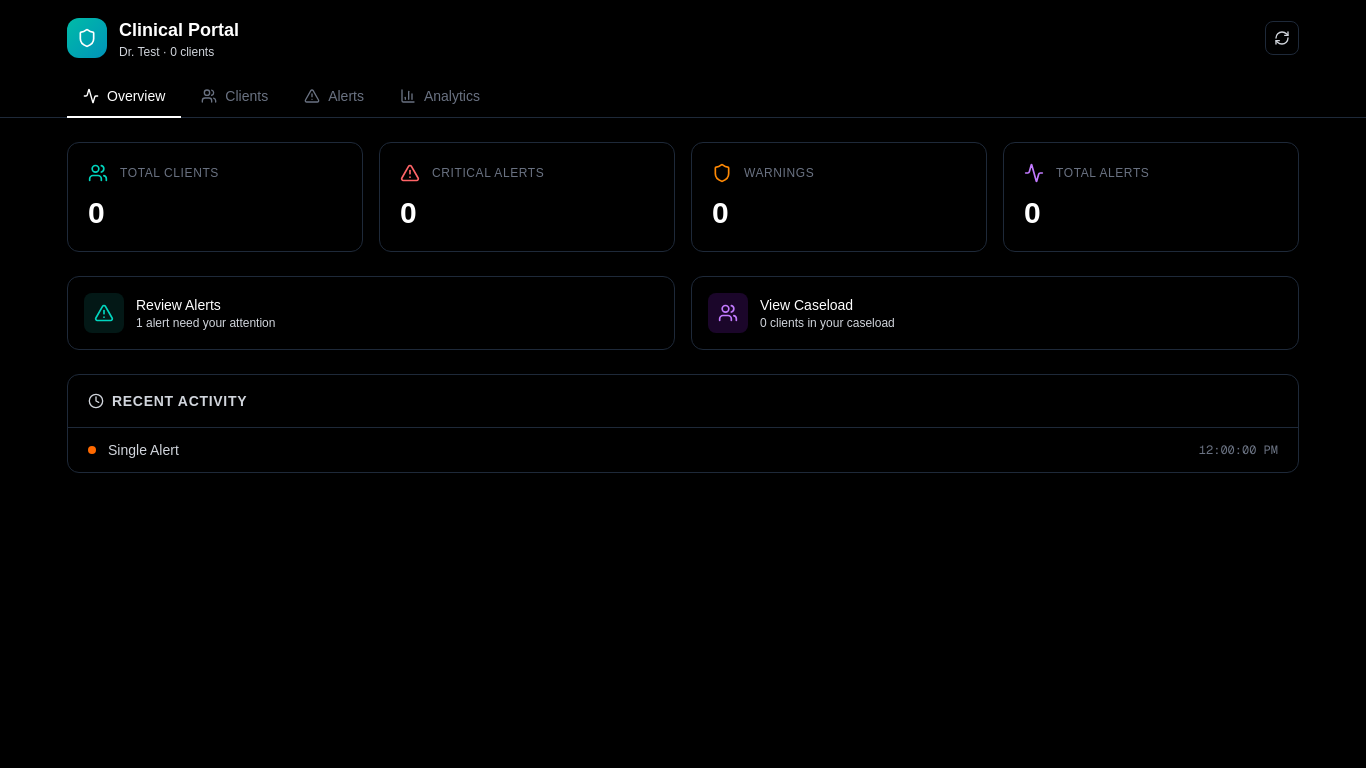
Test: ClinicalPortal › handles branch coverage edge cases (singular alerts, empty state, zero summary)
Expected: the text "Total Clients" is shown, [120,165,219,181]
Expected: the text "1 alert need your attention" is shown, [136,315,276,331]
# Check "No clients assigned"
Step 1. Click the button "Clients" → click(235, 97), box [185,76,284,118]
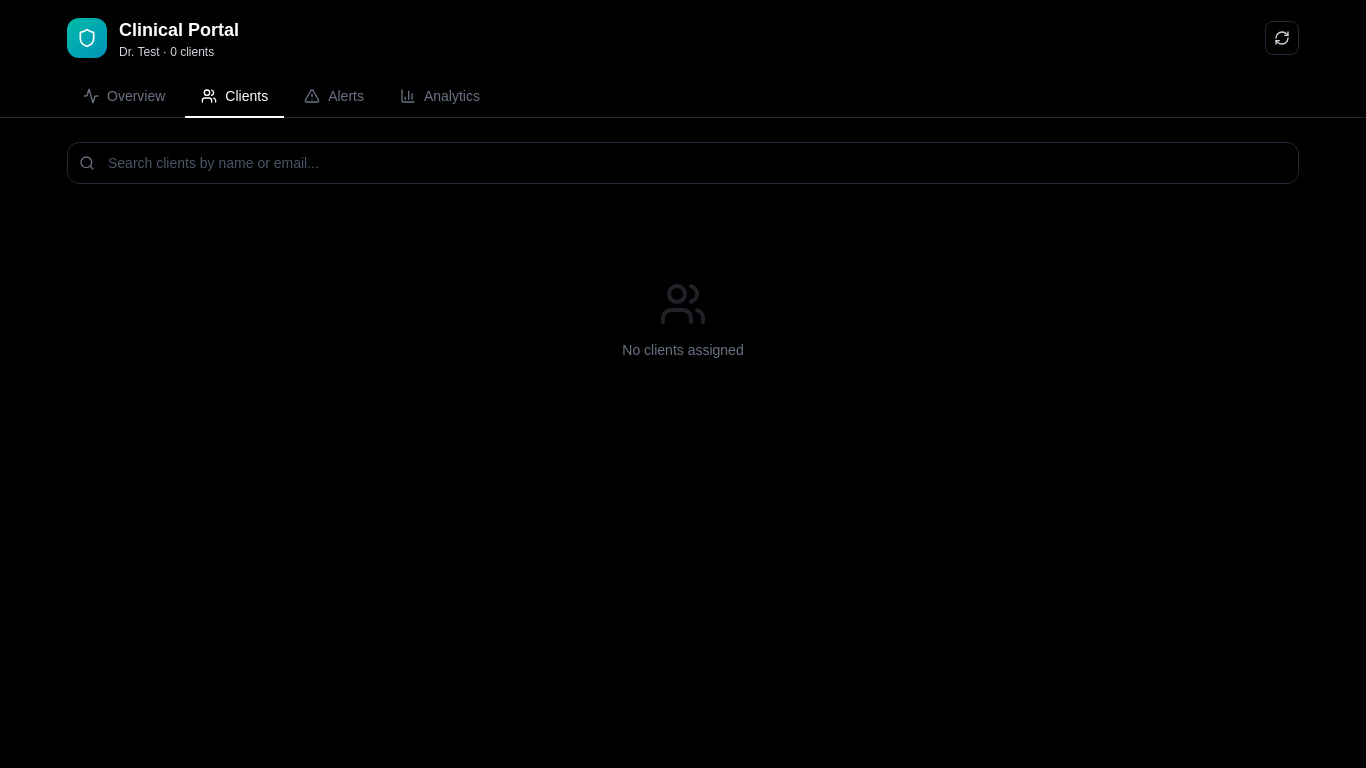
Now the text "No clients assigned" is shown, box [622,342,744,358]
# Check zero summary analytics (division by zero protection)
Step 2. Click the button "Analytics" → click(440, 97), box [384,76,496,118]
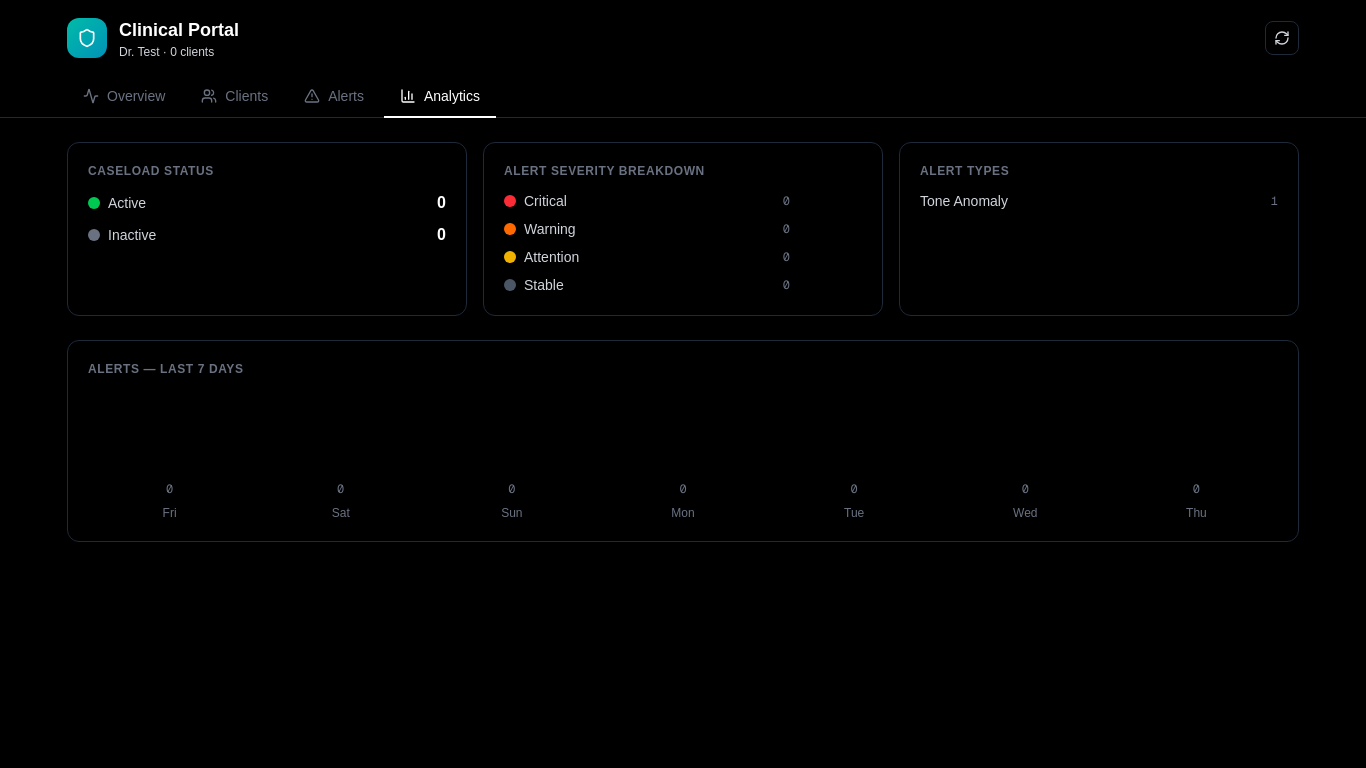
Now the heading "Alert Severity Breakdown" is shown, box [504,164,705,178]
